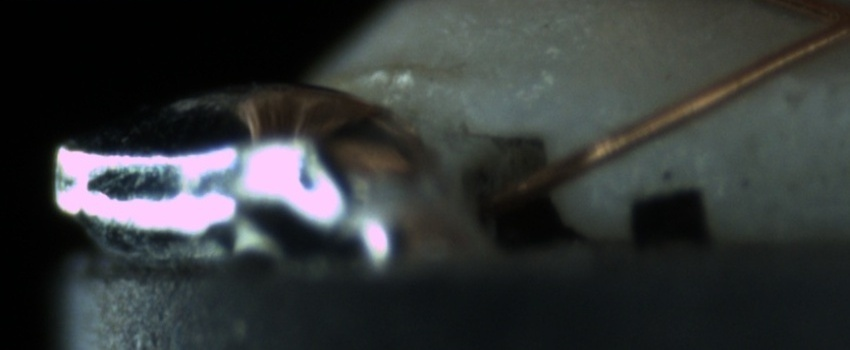CL: (781, 0, 849, 59)
